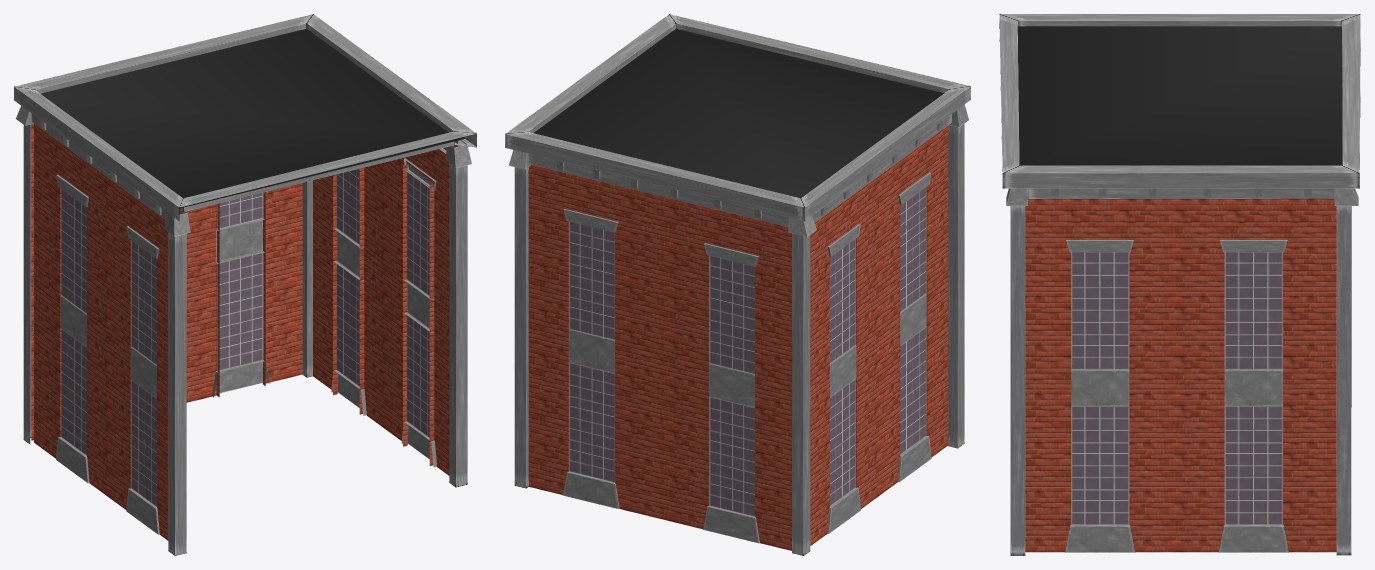
The model's file is SM_Building_01.fbx.
The picture shows the model from 3 angles, left to right: view 1: azimuth 30°, elevation 25°; view 2: azimuth 150°, elevation 25°; view 3: azimuth 270°, elevation 25°; orthographic projection. The views are drawn at different scales.
Visible parts, largest first — view 1: SM_Building_01_a, SM_Building_01_c, SM_Building_01_d, SM_Building_01_b; view 2: SM_Building_01_a, SM_Building_01_c, SM_Building_01_d, SM_Building_01_b; view 3: SM_Building_01_a, SM_Building_01_d, SM_Building_01_c, SM_Building_01_b.
Boxes of the visible parts, left/top/right/bottom form: SM_Building_01_a: left=31, top=123, right=457, bottom=540; SM_Building_01_c: left=14, top=14, right=476, bottom=555; SM_Building_01_d: left=40, top=28, right=465, bottom=207; SM_Building_01_b: left=61, top=169, right=433, bottom=506; SM_Building_01_a: left=528, top=125, right=948, bottom=550; SM_Building_01_c: left=505, top=14, right=970, bottom=555; SM_Building_01_d: left=533, top=28, right=943, bottom=198; SM_Building_01_b: left=569, top=187, right=926, bottom=516; SM_Building_01_a: left=1025, top=198, right=1336, bottom=552; SM_Building_01_d: left=1017, top=26, right=1342, bottom=165; SM_Building_01_c: left=999, top=14, right=1360, bottom=555; SM_Building_01_b: left=1071, top=252, right=1282, bottom=524.
Size of the model in its own units: 3085 by 3457 by 2938.
